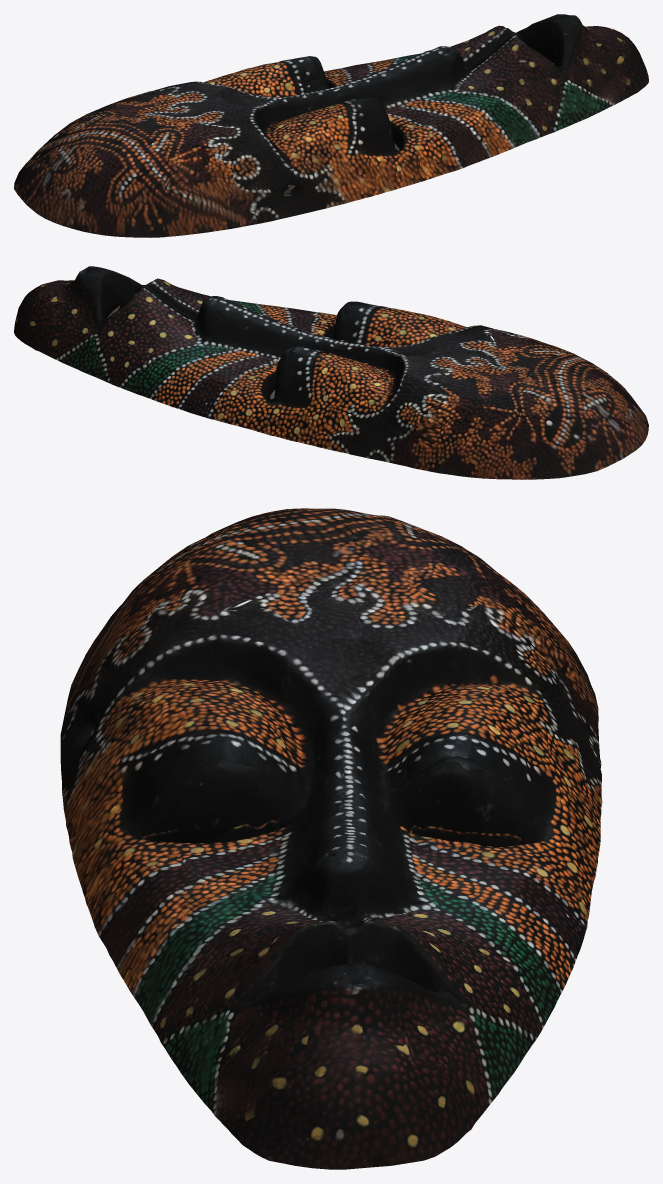
3 views of the same model, one above another, from view 1: azimuth 30°, elevation 25°; view 2: azimuth 150°, elevation 25°; view 3: azimuth 270°, elevation 25° (orthographic). The views are drawn at different scales.
Visible parts, largest first — view 1: RENDER_00; view 2: RENDER_00; view 3: RENDER_00.
Boxes of the visible parts, left/top/right/bottom form: RENDER_00: left=14, top=14, right=648, bottom=237; RENDER_00: left=14, top=266, right=648, bottom=479; RENDER_00: left=60, top=508, right=602, bottom=1169.
Size of the model in its own units: 0.9999 by 0.1113 by 0.3882.
1 material, 1 textured.
